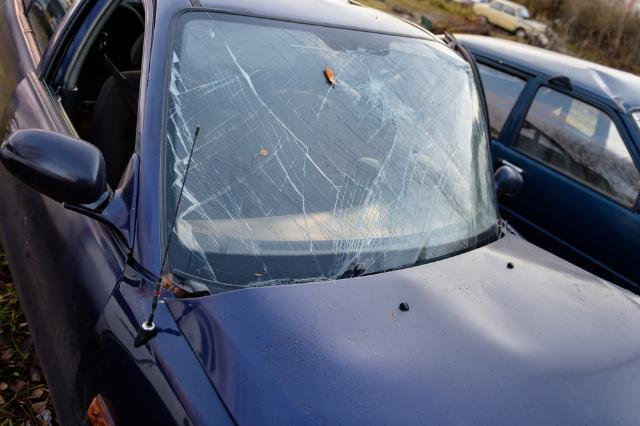dent: (319, 251, 640, 377)
glass shatter: (165, 10, 501, 287)
